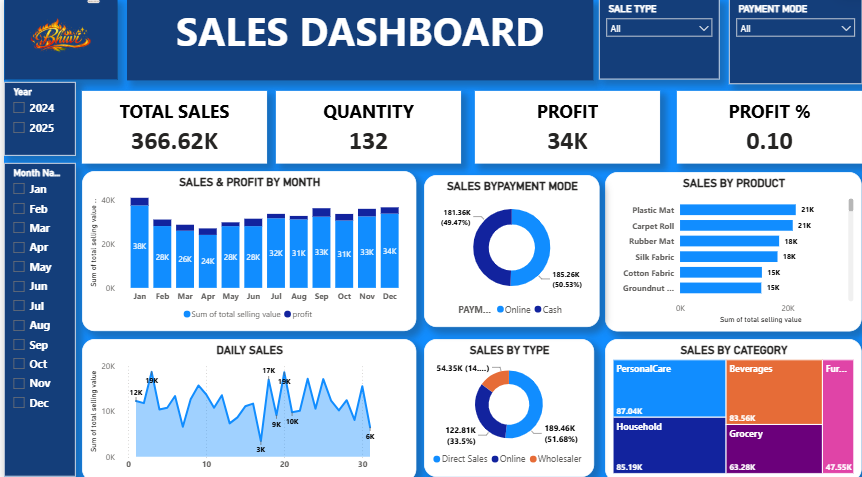

Layout of this report page (visuals, bound fields, positions):
{"tool":"powerbi","page":{"name":"Page 1","canvas":[1280,720],"ordinal":0},"visuals":[{"type":"shape","box":[0,0,169.7,120.9],"z":0},{"type":"image","box":[0,0,168,120.9],"z":1000},{"type":"textbox","box":[183.1,1.4,695.8,119.7],"z":2000},{"type":"slicer","fields":{"Values":["InputData.Year"]},"box":[0,124.4,106.8,109.8],"z":3000},{"type":"slicer","fields":{"Values":["InputData.Month Name"]},"box":[0,245.1,107,467.6],"z":4000},{"type":"slicer","fields":{"Values":["InputData.SALE TYPE"]},"box":[888.7,0,180.3,119.7],"z":5000},{"type":"slicer","fields":{"Values":["InputData.PAYMENT MODE"]},"box":[1081.7,0,198.6,126.8],"z":6000},{"type":"cardVisual","fields":{"Data":["Sum(InputData.total selling value)"]},"box":[116.9,136.6,276.1,108.5],"z":7000},{"type":"cardVisual","fields":{"Data":["Sum(InputData.QUANTITY)"]},"box":[405.6,136.6,276.1,108.5],"z":8000},{"type":"cardVisual","fields":{"Data":["InputData.profit"]},"box":[702.8,136.6,276.1,108.5],"z":9000},{"type":"cardVisual","fields":{"Data":["InputData.profit %"]},"box":[1004.2,136.6,276.1,108.5],"z":10000},{"type":"columnChart","title":"SALES & PROFIT BY MONTH","fields":{"Y":["Sum(InputData.total selling value)","InputData.profit"],"Category":["InputData.Month Name"]},"box":[116.9,256.3,498.6,239.4],"z":11000},{"type":"areaChart","title":"DAILY SALES","fields":{"Category":["InputData.Day"],"Y":["Sum(InputData.total selling value)"]},"box":[116.9,507,498.6,212.7],"z":12000},{"type":"clusteredBarChart","title":"SALES BY PRODUCT","fields":{"Y":["Sum(InputData.total selling value)"],"Category":["InputData.MasterData.PRODUCT"]},"box":[897.2,257.7,383.1,238],"z":13000},{"type":"treemap","title":"SALES BY CATEGORY","fields":{"Values":["Sum(InputData.total selling value)"],"Group":["InputData.MasterData.CATEGORY"]},"box":[897.2,507,383.1,212.7],"z":13001},{"type":"donutChart","title":"SALES BY TYPE","fields":{"Y":["Sum(InputData.total selling value)"],"Category":["InputData.SALE TYPE"]},"box":[626.8,507,253.5,205.6],"z":13002},{"type":"donutChart","title":"SALES BYPAYMENT MODE","fields":{"Y":["Sum(InputData.total selling value)"],"Category":["InputData.PAYMENT MODE"]},"box":[626.8,263.4,262,226.8],"z":13003}]}

Visuals, with their boxes in screenshot pixels (x1, y1, x2, y2), scaled from the page's 1280x720 canvas onto the 862x477 screenshot:
shape: (0, 0, 114, 80)
image: (0, 0, 113, 80)
textbox: (123, 1, 592, 80)
slicer - InputData.Year: (0, 82, 72, 155)
slicer - InputData.Month Name: (0, 162, 72, 472)
slicer - InputData.SALE TYPE: (598, 0, 720, 79)
slicer - InputData.PAYMENT MODE: (728, 0, 861, 84)
cardVisual - Sum(InputData.total selling value): (79, 90, 265, 162)
cardVisual - Sum(InputData.QUANTITY): (273, 90, 459, 162)
cardVisual - InputData.profit: (473, 90, 659, 162)
cardVisual - InputData.profit %: (676, 90, 861, 162)
"SALES & PROFIT BY MONTH" columnChart: (79, 170, 415, 328)
"DAILY SALES" areaChart: (79, 336, 415, 476)
"SALES BY PRODUCT" clusteredBarChart: (604, 171, 861, 328)
"SALES BY CATEGORY" treemap: (604, 336, 861, 476)
"SALES BY TYPE" donutChart: (422, 336, 593, 472)
"SALES BYPAYMENT MODE" donutChart: (422, 175, 599, 325)
